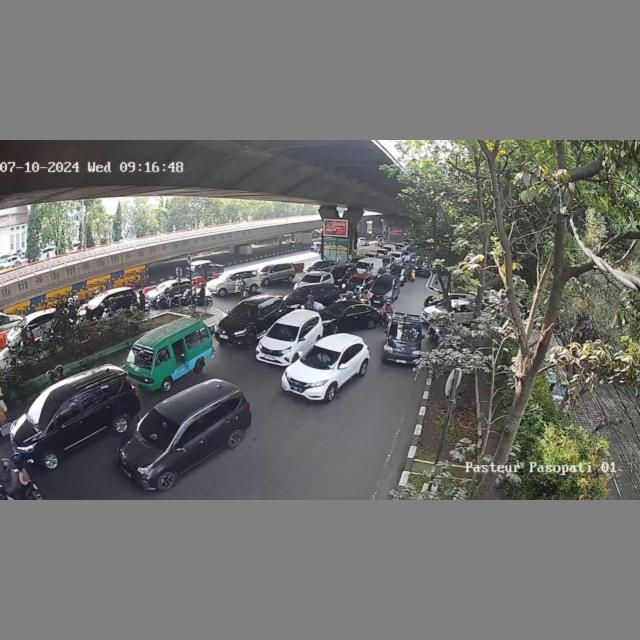windshield: (135, 409, 182, 448), (27, 393, 61, 429), (301, 345, 339, 367), (388, 322, 424, 344), (126, 345, 155, 369), (268, 322, 298, 340), (230, 302, 257, 318), (290, 288, 307, 298)
